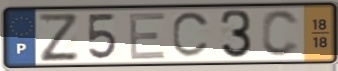3: (218, 9, 254, 61)
5: (86, 12, 119, 61)
C: (170, 10, 213, 60), (260, 8, 302, 59)
E: (127, 10, 168, 61)
Z: (35, 12, 81, 63)
